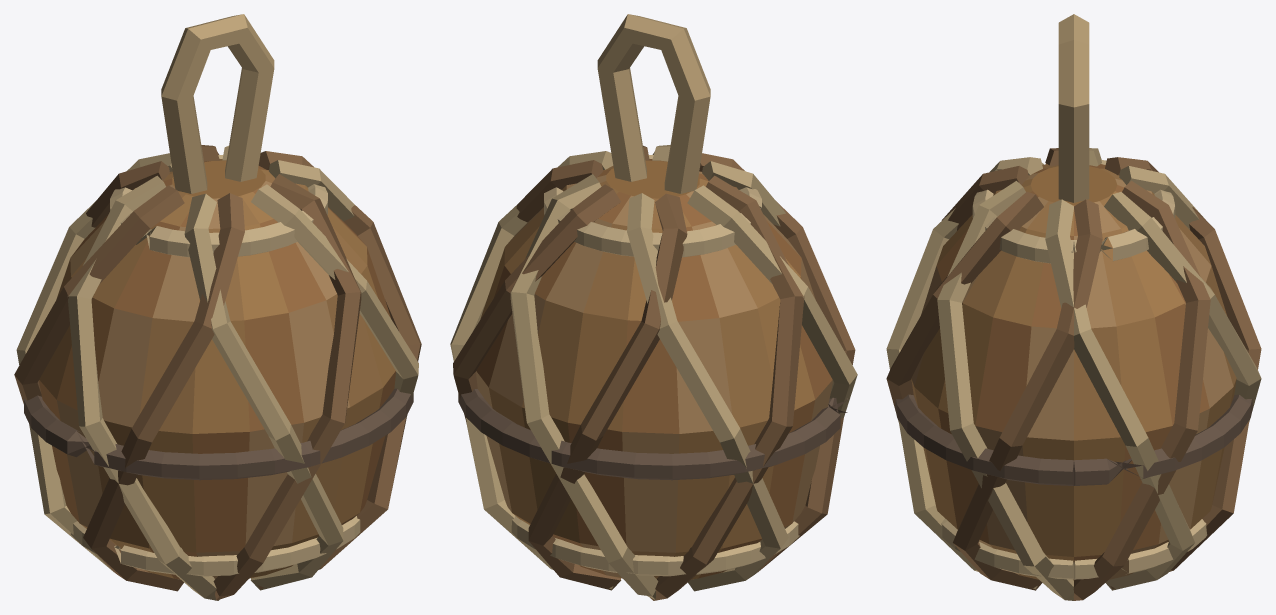
Rendered from cork_fender.glb.
The picture shows the model from 3 angles, left to right: view 1: azimuth 30°, elevation 25°; view 2: azimuth 150°, elevation 25°; view 3: azimuth 270°, elevation 25°; orthographic projection.
Parts seen in each view (by area): view 1: cork_fender; view 2: cork_fender; view 3: cork_fender.
Boxes of the visible parts, <box> form: cork_fender: <box>14,14,421,600</box>; cork_fender: <box>450,14,857,600</box>; cork_fender: <box>886,14,1261,600</box>.
Bounding box in the file's own units: 0.3307 × 0.5106 × 0.3152.
